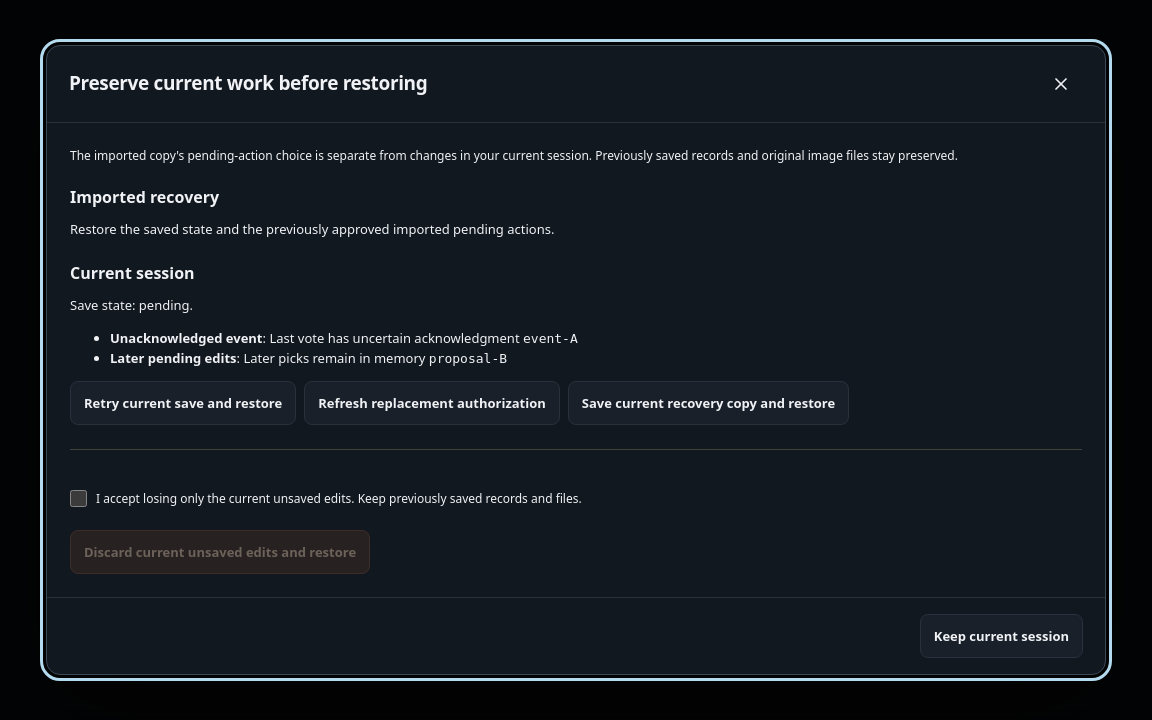
it: cancelled export preserves subject and current layers without confirming replacement
Click the button "Save current recovery copy and restore".
click(708, 403)  # box [568, 381, 849, 425]
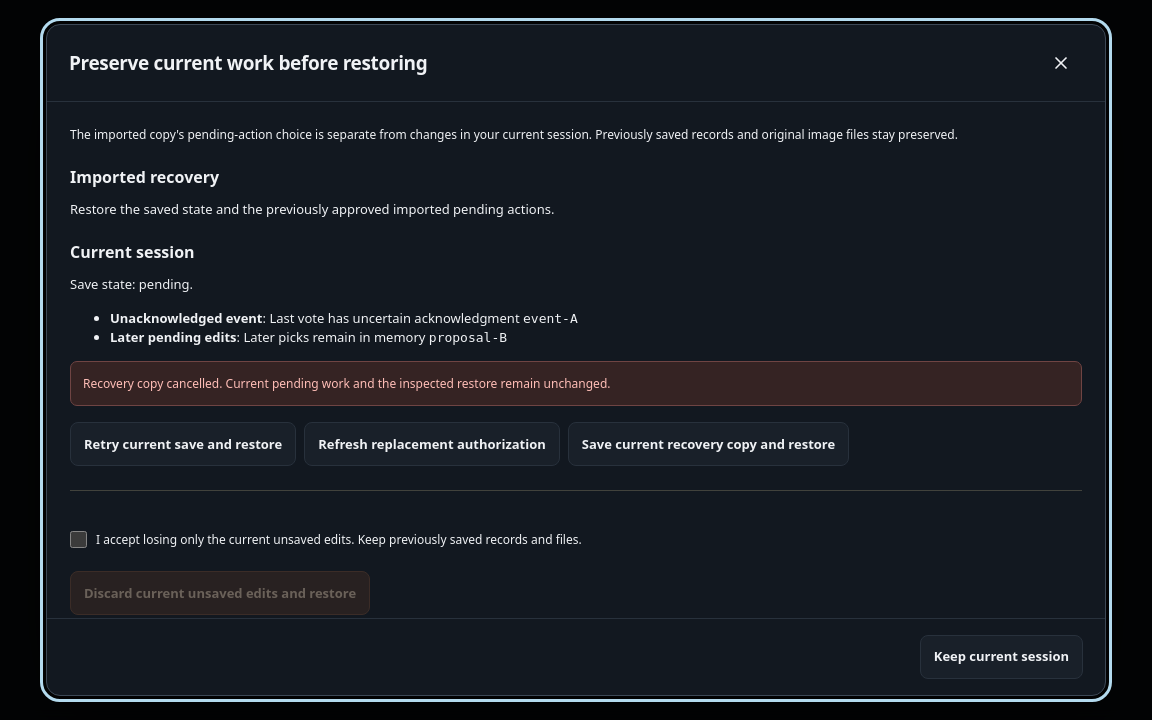
Expected: the list item "Later pending edits: Later picks remain in memory proposal-B" is shown, [110, 328, 507, 346]
Result: the text "Recovery copy cancelled" is shown at [83, 375, 610, 392]
